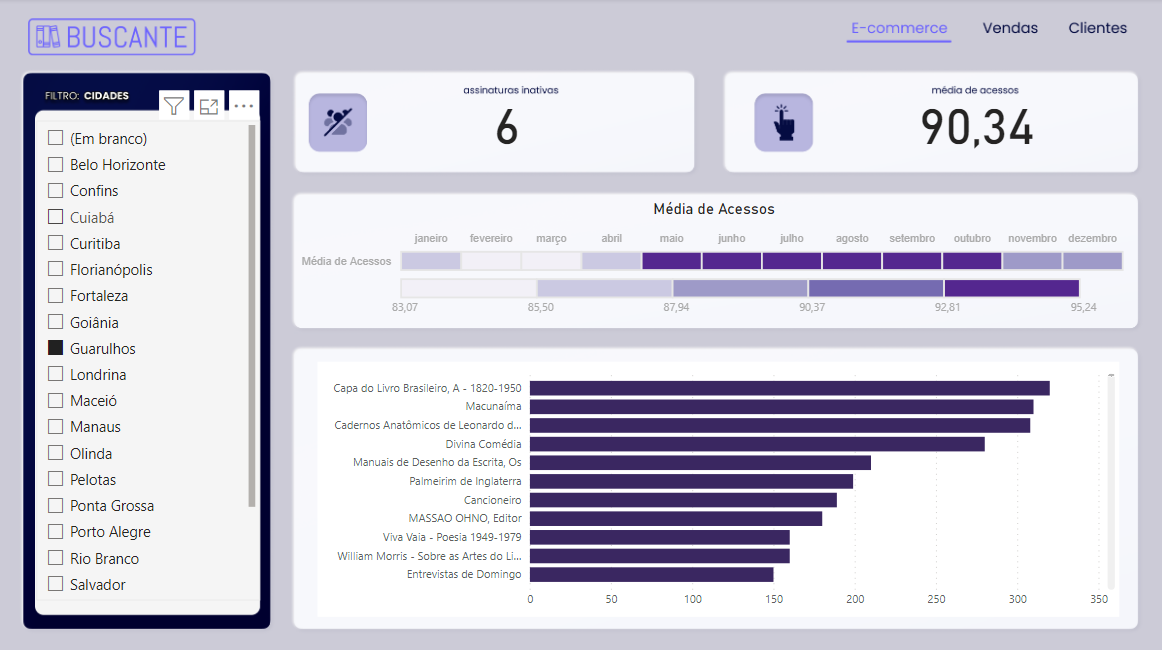

The dashboard page shown, as its layout file describes it:
{"tool":"powerbi","page":{"name":"E-commerce","canvas":[1280,720],"ordinal":0},"visuals":[{"type":"slicer","fields":{"Values":["Clientes.Cidade"]},"box":[40,134.3,245.7,527.1],"z":0},{"type":"card","fields":{"Values":["Clientes.Assinatura ativa"]},"box":[471.4,117.1,168.6,57.1],"z":1000},{"type":"card","fields":{"Values":["Acessos na página.Acessos"]},"box":[987.1,117.1,168.6,57.1],"z":2000},{"type":"TableHeatMap1443716069308","title":"Média de Acessos","fields":{"Y":["Acessos na página.Acessos"],"Category":["Acessos na página.Data.Variation.Hierarquia de datas.Mês"]},"box":[322.9,221.4,922.9,158.6],"z":3000},{"type":"clusteredBarChart","fields":{"Y":["Catálogo livros.Valor"],"Category":["Catálogo livros.Titulo"]},"box":[348.6,398.6,880,280],"z":4000},{"type":"actionButton","box":[1055.7,15.7,100,40],"z":5000},{"type":"actionButton","box":[1155.7,15.7,100,40],"z":6000}]}

Visuals, with their boxes in screenshot pixels (x1, y1, x2, y2), scaled from the page's 1280x720 canvas onto the 1162x650 screenshot:
slicer - Clientes.Cidade: 36 121 259 597
card - Clientes.Assinatura ativa: 428 106 581 157
card - Acessos na página.Acessos: 896 106 1049 157
"Média de Acessos" TableHeatMap1443716069308: 293 200 1131 343
clusteredBarChart - Catálogo livros.Valor x Catálogo livros.Titulo: 316 360 1115 613
actionButton: 958 14 1049 50
actionButton: 1049 14 1140 50
